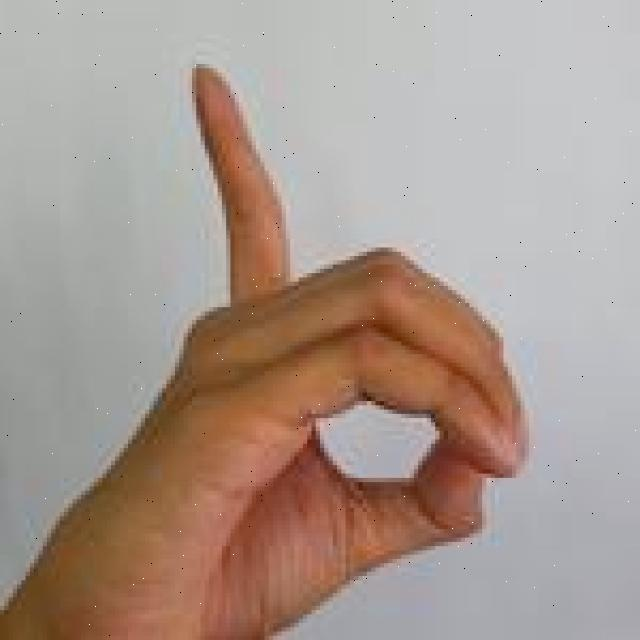D: (7, 59, 534, 640)
